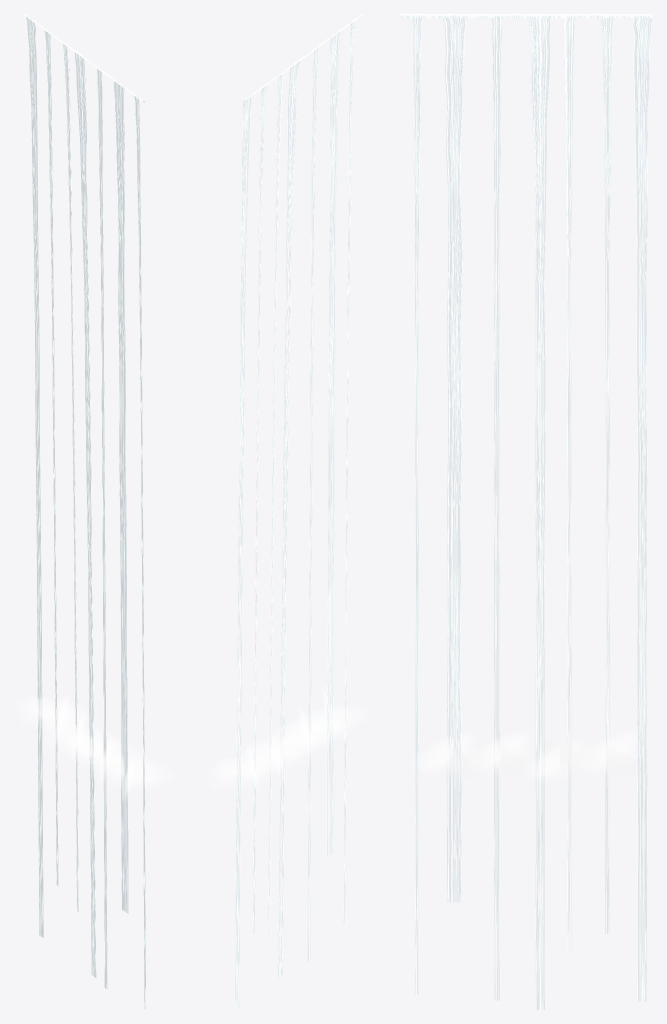
3 views of the same model, side by side, from view 1: azimuth 30°, elevation 25°; view 2: azimuth 150°, elevation 25°; view 3: azimuth 270°, elevation 25° (orthographic). The views are drawn at different scales.
Visible parts, largest first — view 1: Mesh_spill_sheet, Mesh_spill_mist; view 2: Mesh_spill_sheet, Mesh_spill_mist; view 3: Mesh_spill_sheet, Mesh_spill_mist, Mesh_spill_lip.
Part boxes in pixels (box(x1,y1,x2,y2)): Mesh_spill_sheet: box(25, 14, 145, 1009); Mesh_spill_mist: box(20, 694, 170, 799); Mesh_spill_sheet: box(235, 14, 361, 1009); Mesh_spill_mist: box(211, 688, 364, 792); Mesh_spill_sheet: box(400, 14, 652, 1009); Mesh_spill_mist: box(414, 731, 641, 785); Mesh_spill_lip: box(400, 14, 652, 18).
Size of the model in its own units: 6.81 by 103 by 23.97.
3 materials, 3 textured.
